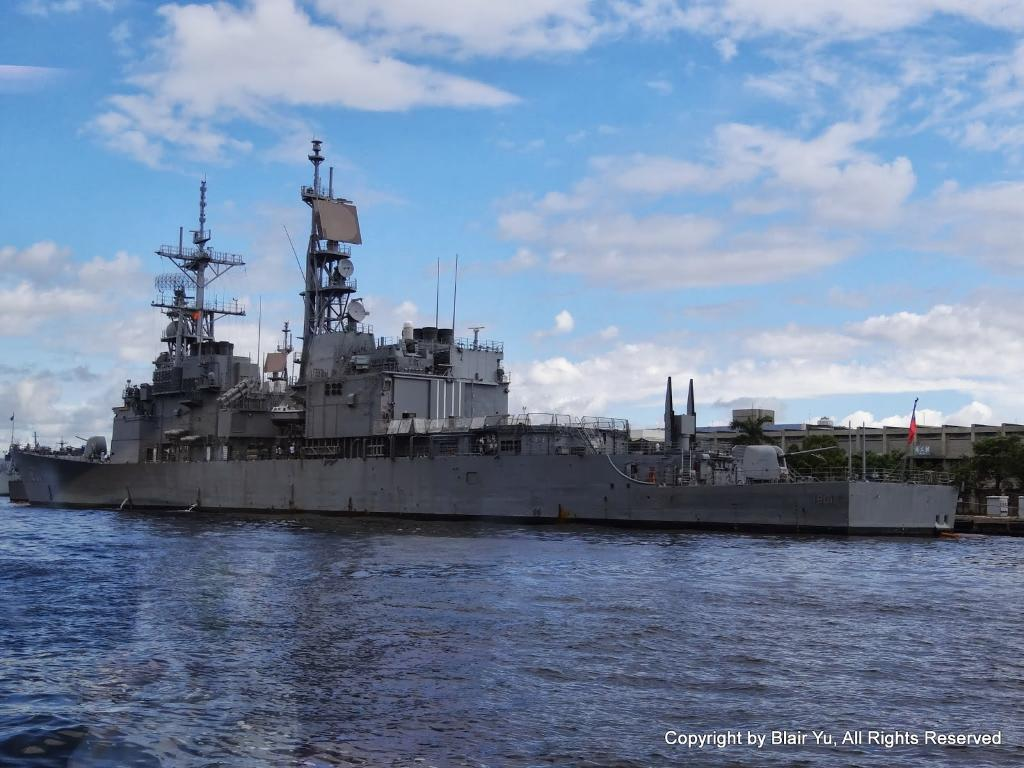Warship: (18, 135, 964, 536)
